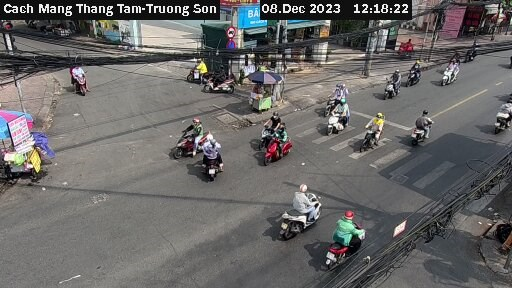motorbike: (271, 182, 328, 235), (319, 209, 367, 267), (163, 120, 225, 157), (193, 142, 237, 179), (396, 111, 437, 146), (62, 61, 100, 96), (260, 136, 302, 167), (440, 56, 471, 90), (404, 56, 432, 91), (320, 103, 349, 134), (361, 114, 385, 151), (491, 92, 512, 133), (204, 70, 238, 95), (255, 110, 286, 137), (380, 68, 404, 101), (322, 81, 350, 106), (182, 60, 211, 81)
